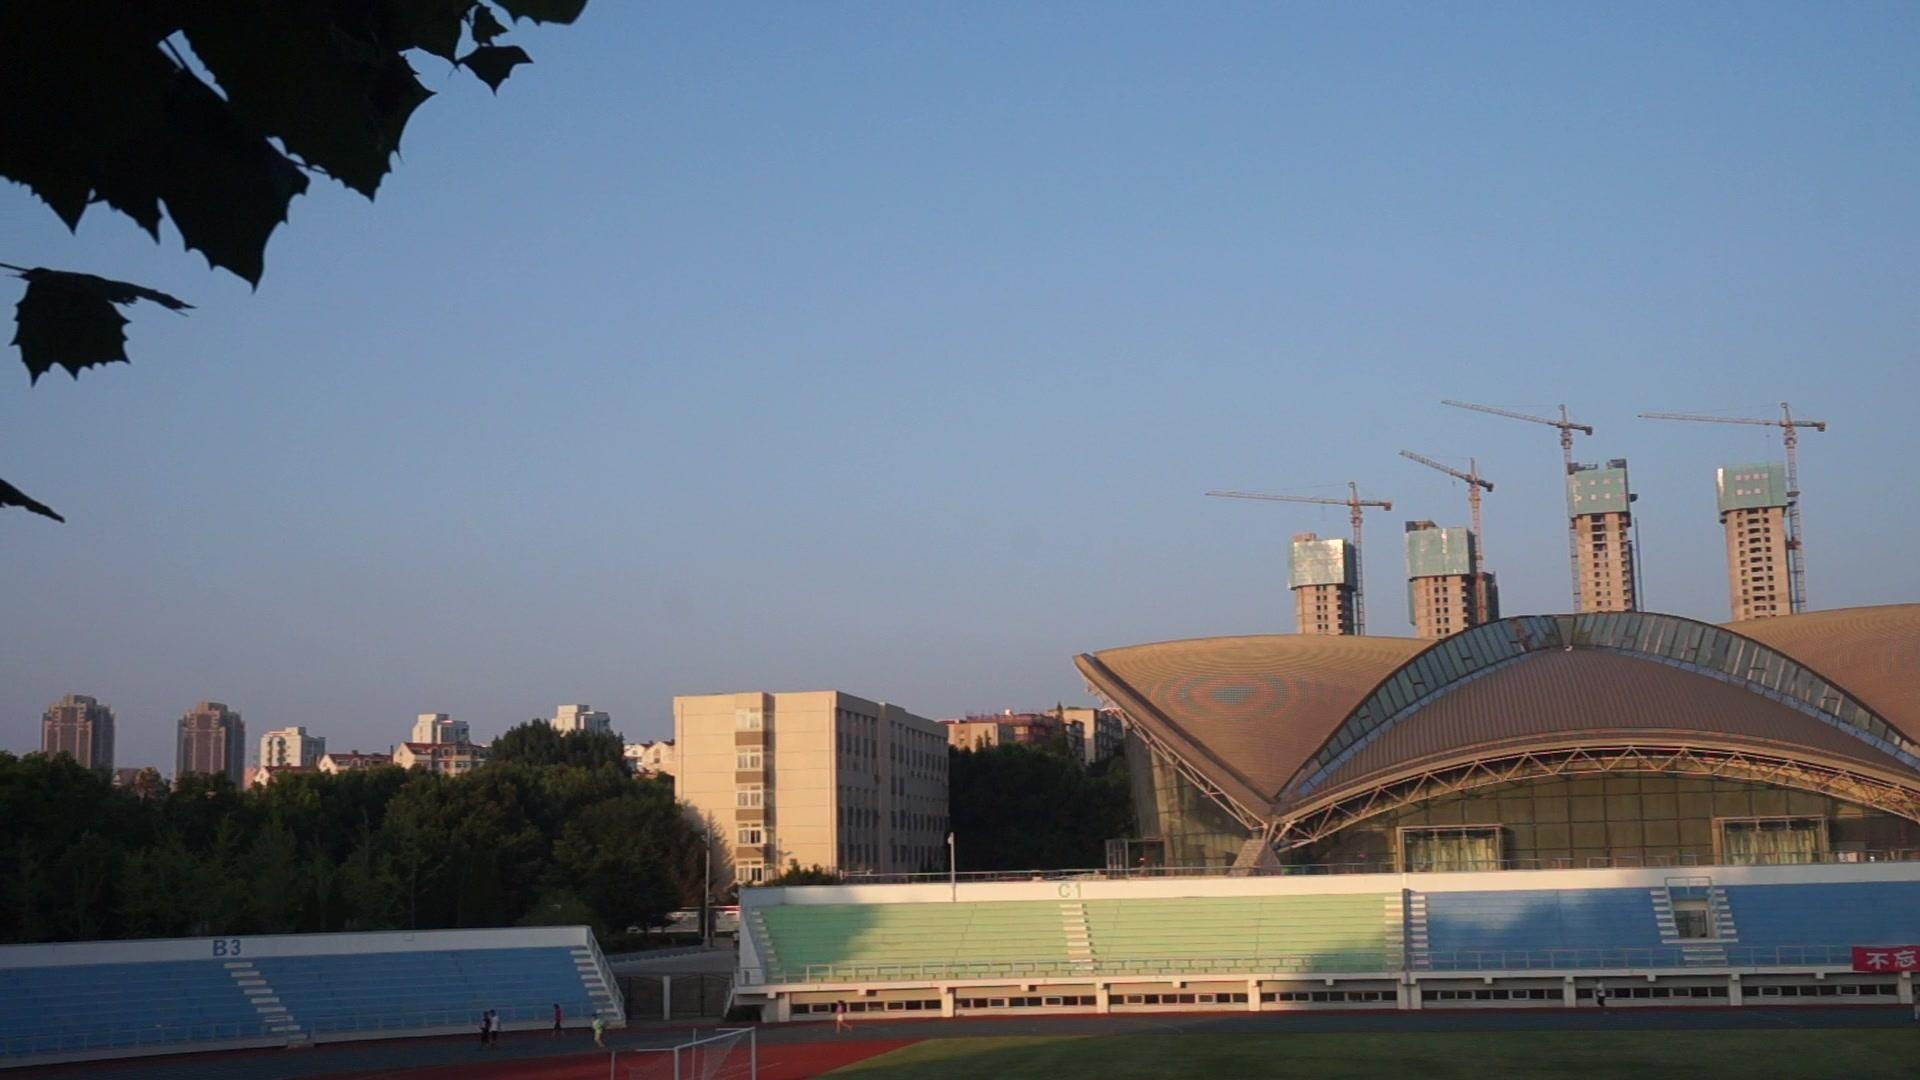UAV: (1509, 632, 1538, 651)
